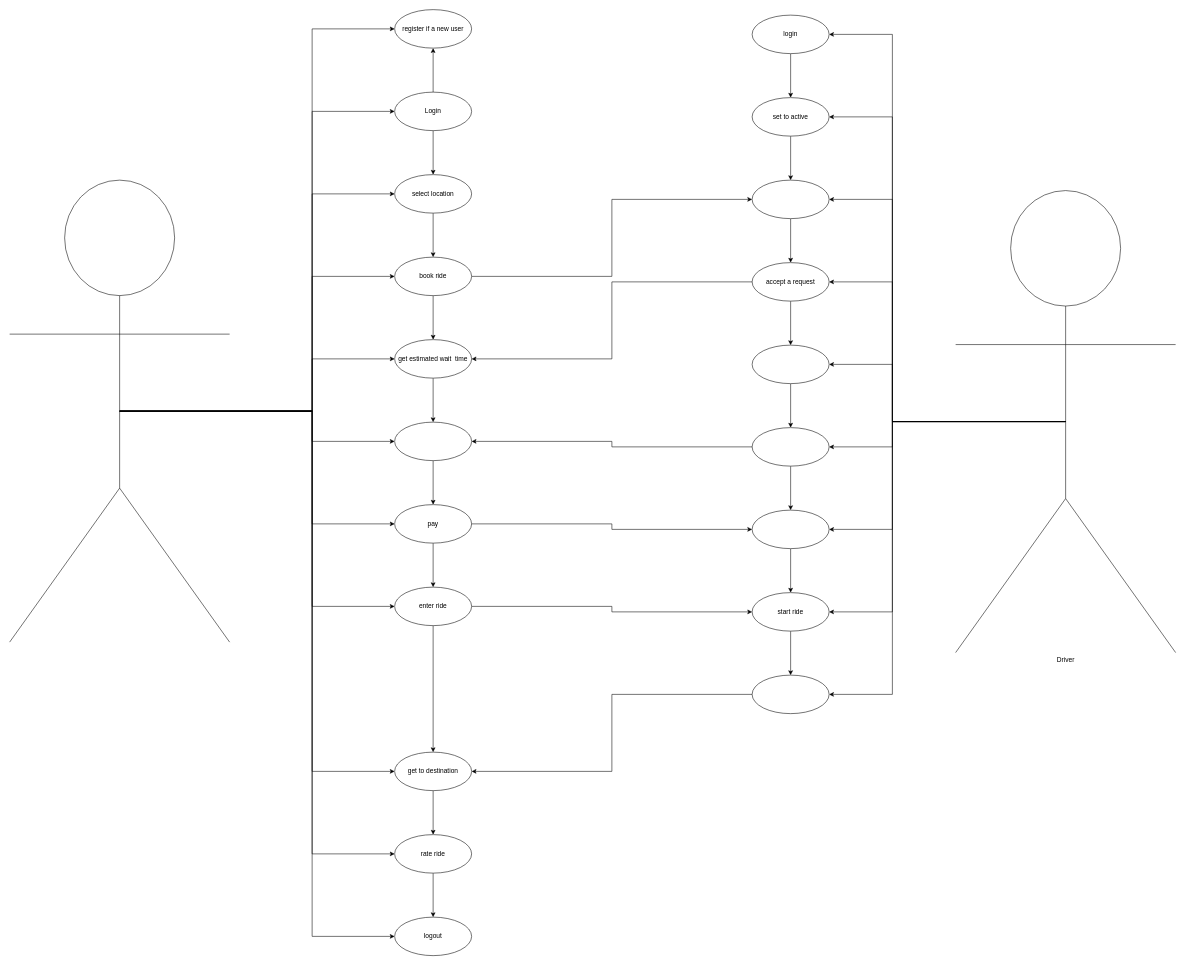
This 1185x965 diagram has some shape labels left out. The box of each missing label's shape, as (x1, y1, x2, y2) in pixels:
confirm payment: (752, 510, 829, 549)
drive to destination: (752, 345, 829, 384)
end ride: (752, 675, 829, 714)
get notification that ride has arrived: (394, 422, 472, 461)
get ride request notifications: (752, 180, 829, 219)
Rider: (9, 180, 230, 642)
send request of arrival: (752, 427, 829, 466)
